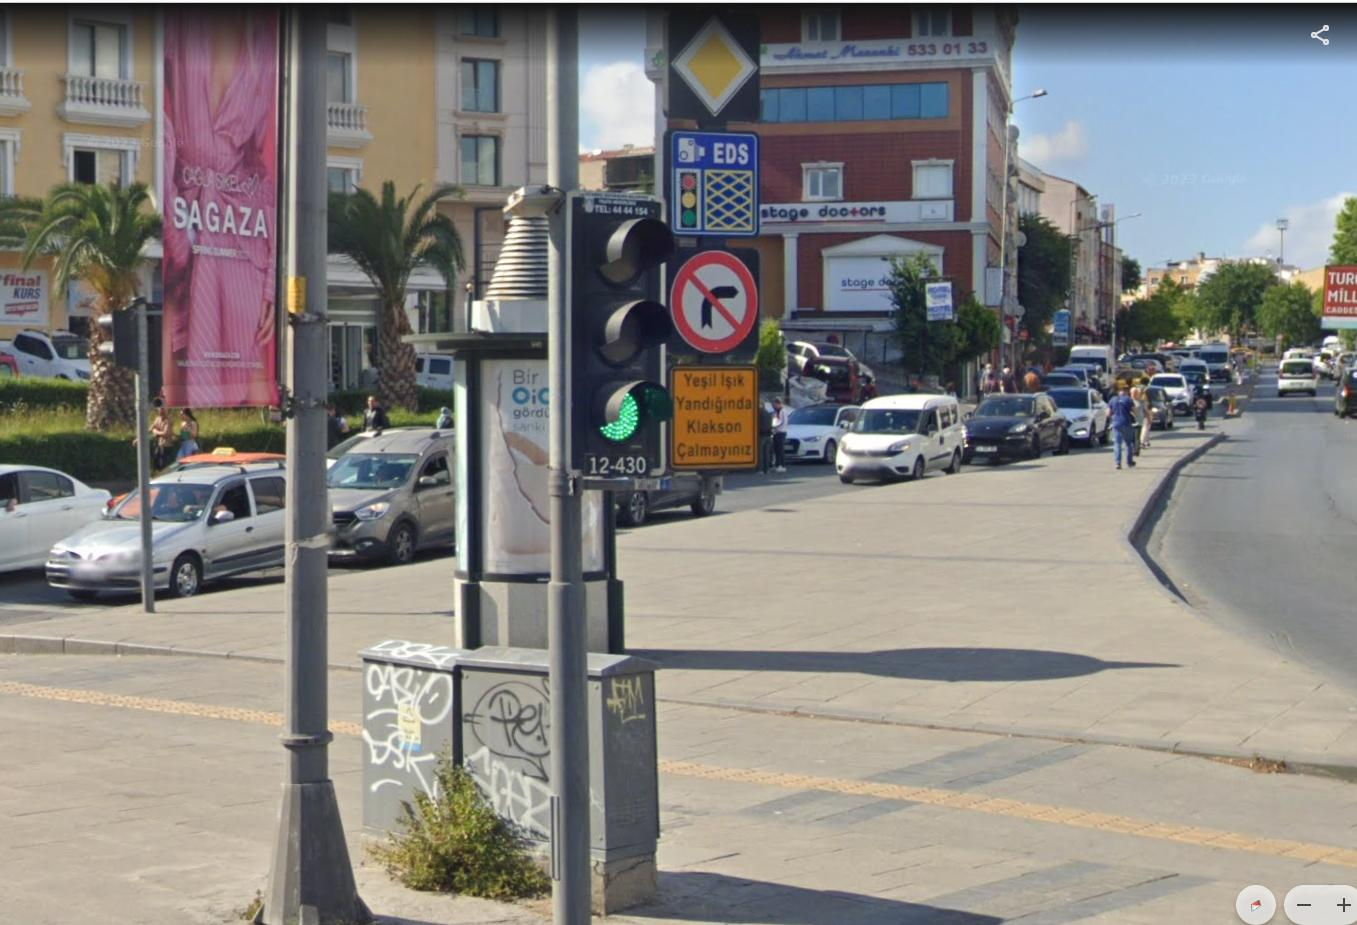greenlight: (576, 201, 667, 455)
rightturnsareforbidden: (672, 251, 755, 351)
